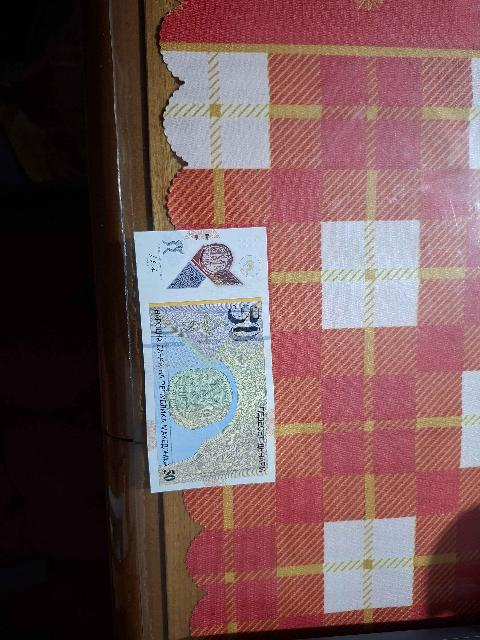50_note: (136, 229, 274, 491)
